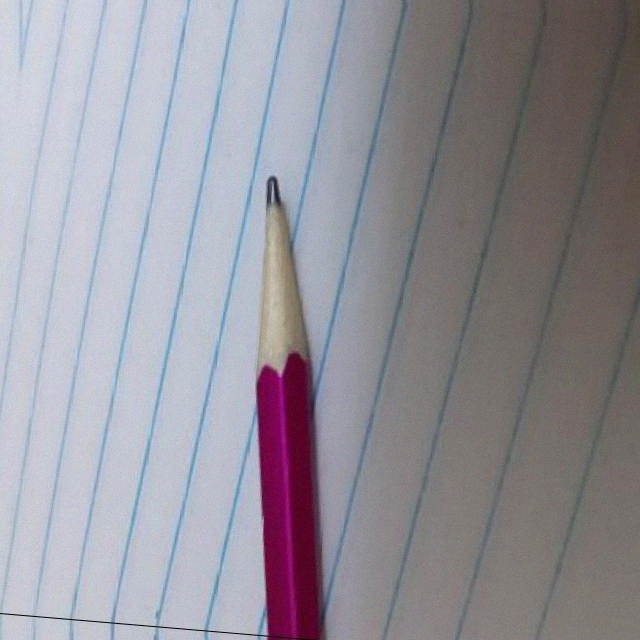pencil: (226, 166, 324, 384)
